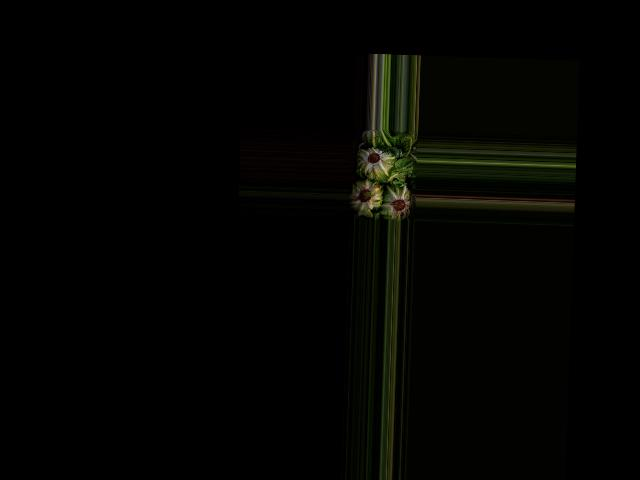lettuce: (380, 184, 411, 220)
